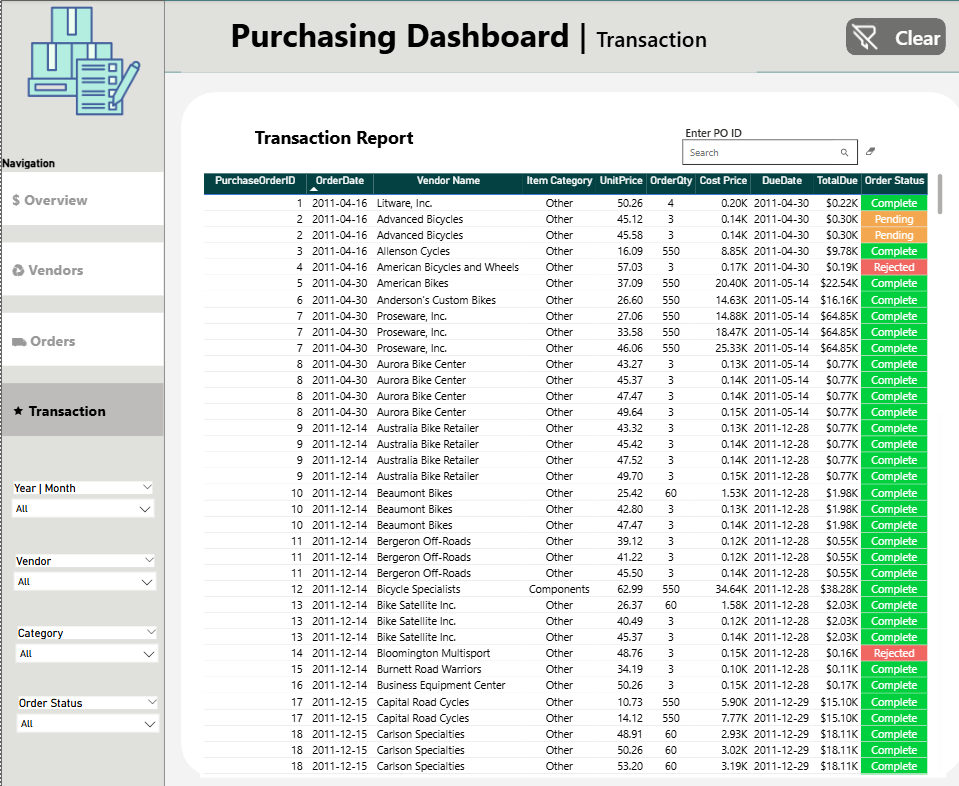

The dashboard page shown, as its layout file describes it:
{"tool":"powerbi","page":{"name":"🟊 Transaction","canvas":[1460,1200],"ordinal":3},"visuals":[{"type":"actionButton","box":[1706.3,37.6,147.6,56.3],"z":0},{"type":"shape","box":[268.9,137.7,1168.9,1023],"z":1000},{"type":"pageNavigator","title":"Navigation","box":[1.6,232.8,241.5,419.9],"z":1000,"group":"g1"},{"type":"tableEx","fields":{"Values":["Fact_PurchaseOrderDetail.PurchaseOrderID","Date.orderdate_ymd","Dim_Vendor.Vendor Name","Fact_PurchaseOrderDetail.Dim_Product.Category","Fact_PurchaseOrderDetail.UnitPrice","Fact_PurchaseOrderDetail.OrderQty","Fact_PurchaseOrderDetail.LineTotal","Fact_PurchaseOrderDetail.duedate_ymd","Fact_PurchaseOrderHeader.TotalDue","Fact_PurchaseOrderHeader.Status Description"]},"box":[296.6,254.2,1113.6,906.8],"z":2000},{"type":"slicer","fields":{"Values":["Date.Date.Variation.Date Hierarchy.Year","Date.Date.Variation.Date Hierarchy.Quarter","Date.Date.Variation.Date Hierarchy.Month","Date.Date.Variation.Date Hierarchy.Day"]},"box":[6.7,713.4,232.9,95.7],"z":2000,"group":"g1"},{"type":"image","box":[12.4,0,224.4,182.5],"z":3000,"group":"g1"},{"type":"shape","box":[356.7,174.6,280.6,59.7],"z":3000},{"type":"textFilter25A4896A83E0487089E2B90C9AE57C8A","fields":{"field":["Fact_PurchaseOrderDetail.PurchaseOrderID"]},"box":[1011.6,202.9,310.1,50.7],"z":4000},{"type":"slicer","fields":{"Values":["Dim_Vendor.Vendor Name"]},"box":[8.9,822.1,232.9,79.7],"z":4000,"group":"g1"},{"type":"textbox","title":"Enter PO ID   ","box":[1016.2,187.6,262.7,19.5],"z":5000},{"type":"slicer","fields":{"Values":["Fact_PurchaseOrderHeader.Status Description"]},"box":[13.6,1034.1,232.9,99.2],"z":5000,"group":"g1"},{"type":"shape","box":[0,0,1460.7,108.2],"z":6000},{"type":"slicer","fields":{"Values":["Dim_Product.Category"]},"box":[12.4,930.1,232.9,95.7],"z":6000,"group":"g1"},{"type":"shape","box":[0,0,244.3,1482],"z":7000},{"type":"group","id":"g1","title":"Group 4","box":[1.6,0,244.3,1132.8],"z":8000},{"type":"textbox","box":[268.9,13.1,859,95.1],"z":9000},{"type":"actionButton","box":[1260.7,26.2,149.2,55.7],"z":10000}]}

Visuals, with their boxes on the page's 1460x1200 design canvas (x1, y1, x2, y2). These are canvas units, not pixel positions in the 959x786 screenshot, which may show the page scaled, cropped or inside an application window:
actionButton: [1706, 38, 1854, 94]
shape: [269, 138, 1438, 1161]
"Navigation" pageNavigator: [2, 233, 243, 653]
tableEx - Fact_PurchaseOrderDetail.PurchaseOrderID x Date.orderdate_ymd: [297, 254, 1410, 1161]
slicer - Date.Date.Variation.Date Hierarchy.Year x Date.Date.Variation.Date Hierarchy.Quarter: [7, 713, 240, 809]
image: [12, 0, 237, 182]
shape: [357, 175, 637, 234]
textFilter25A4896A83E0487089E2B90C9AE57C8A - Fact_PurchaseOrderDetail.PurchaseOrderID: [1012, 203, 1322, 254]
slicer - Dim_Vendor.Vendor Name: [9, 822, 242, 902]
"Enter PO ID   " textbox: [1016, 188, 1279, 207]
slicer - Fact_PurchaseOrderHeader.Status Description: [14, 1034, 246, 1133]
shape: [0, 0, 1461, 108]
slicer - Dim_Product.Category: [12, 930, 245, 1026]
shape: [0, 0, 244, 1482]
"Group 4" group: [2, 0, 246, 1133]
textbox: [269, 13, 1128, 108]
actionButton: [1261, 26, 1410, 82]
